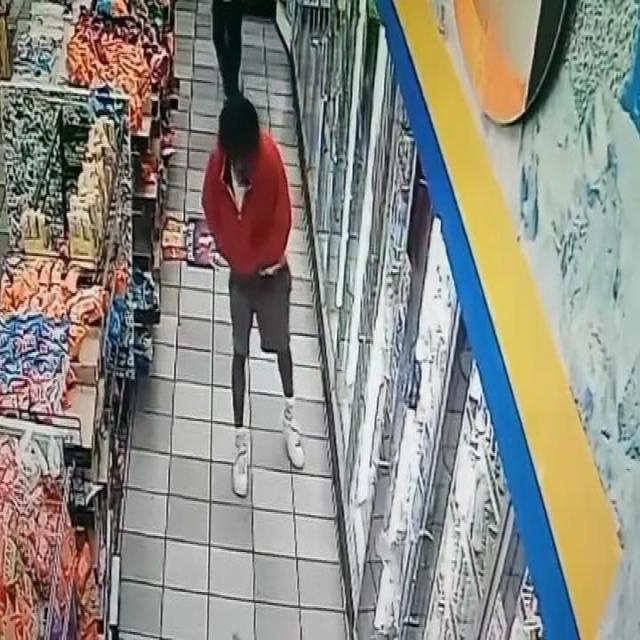Shoplifting: (189, 63, 338, 548)
